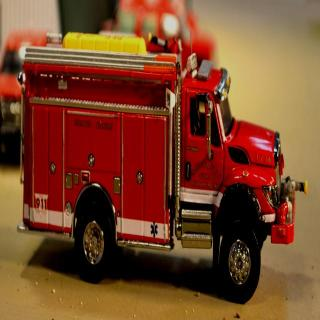Fire_truck: (16, 29, 308, 304)
